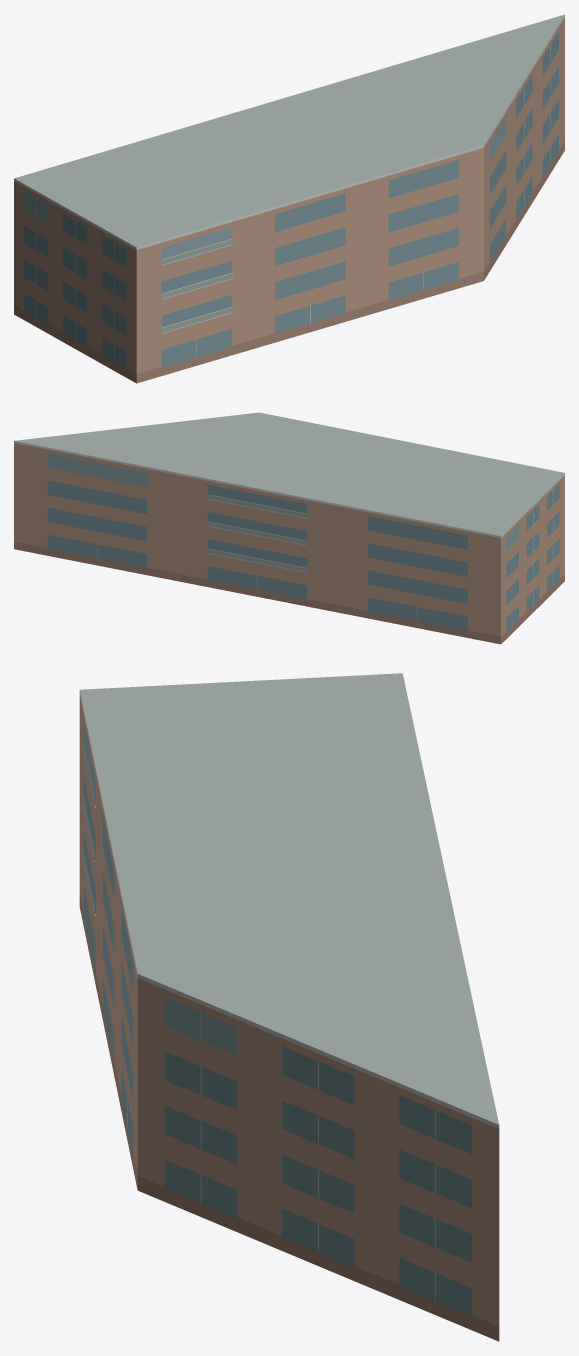
File: survey-upis-32925355.glb
The picture shows the model from 3 angles, top to bottom: view 1: azimuth 30°, elevation 25°; view 2: azimuth 150°, elevation 25°; view 3: azimuth 270°, elevation 25°; orthographic projection. The views are drawn at different scales.
Parts seen in each view (by area): view 1: survey-upis-32925355.tmp; view 2: survey-upis-32925355.tmp; view 3: survey-upis-32925355.tmp.
Boxes of the visible parts, box(x1,y1,x2,y2) form: survey-upis-32925355.tmp: box(14, 14, 564, 383); survey-upis-32925355.tmp: box(14, 412, 564, 644); survey-upis-32925355.tmp: box(79, 673, 499, 1341).
Size of the model in its own units: 55.45 by 12.4 by 21.77.
